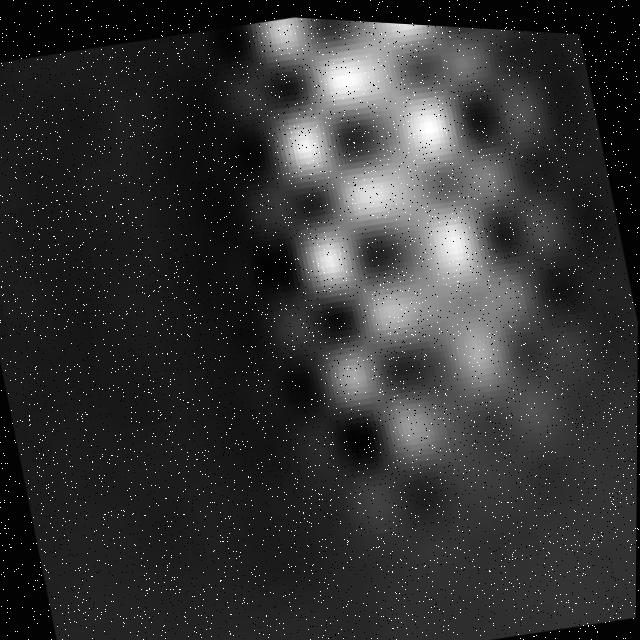person: (209, 11, 617, 496)
